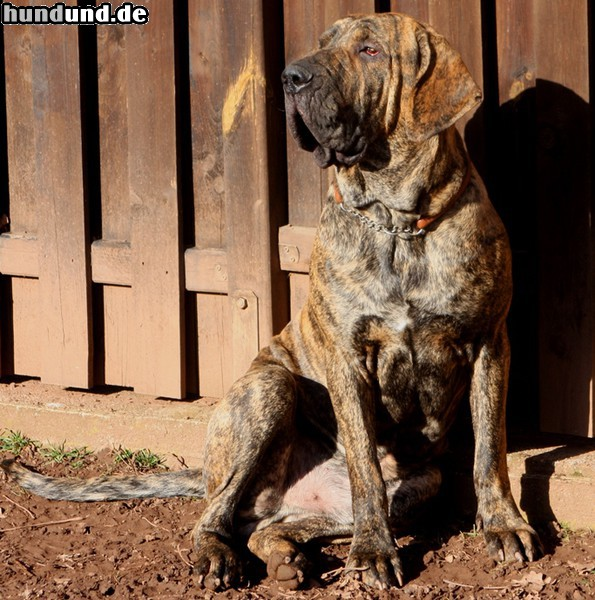fila_brasileiro: (0, 12, 544, 591)
